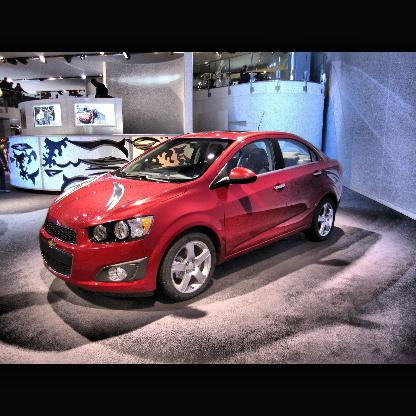Chevrolet Sonic Sedan 2012: (42, 114, 344, 303)
